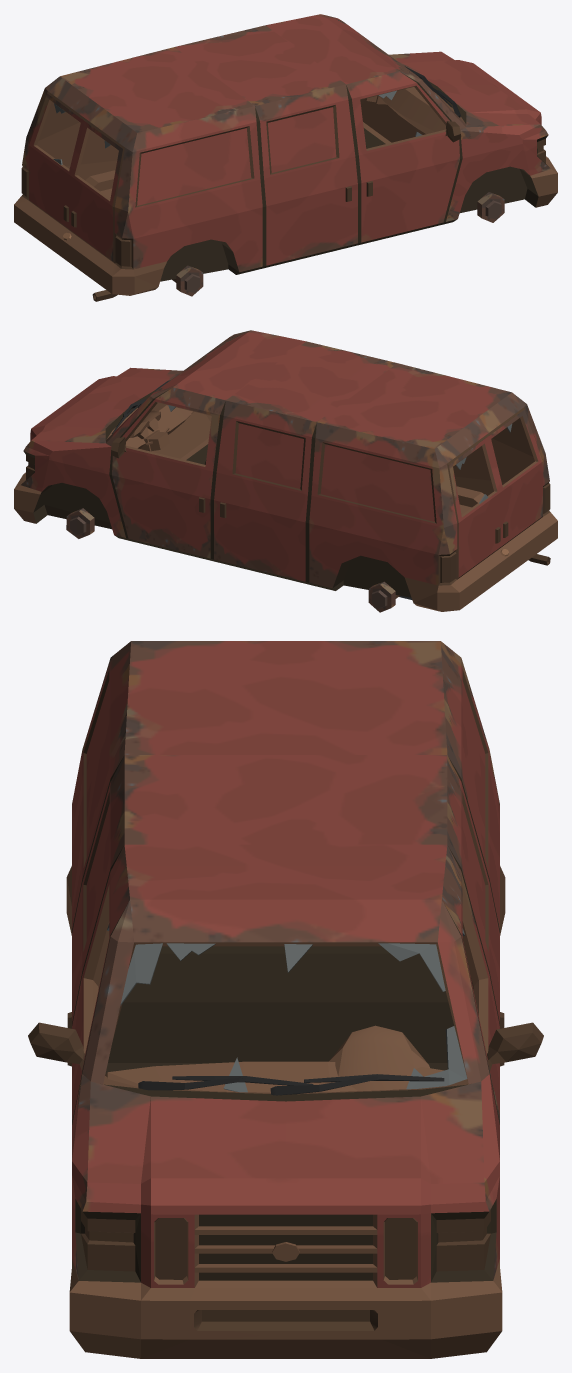
Rendered from VanWrecked_1.fbx.
3 renders of one model, top to bottom at view 1: azimuth 30°, elevation 25°; view 2: azimuth 150°, elevation 25°; view 3: azimuth 270°, elevation 25°, orthographic. The views are drawn at different scales.
Parts seen in each view (by area): view 1: SM_Prop_Car_Wrecked_Van_01; view 2: SM_Prop_Car_Wrecked_Van_01; view 3: SM_Prop_Car_Wrecked_Van_01.
Part boxes in pixels (x1,y1,x2,y2): SM_Prop_Car_Wrecked_Van_01: (14, 14, 557, 301); SM_Prop_Car_Wrecked_Van_01: (14, 330, 557, 612); SM_Prop_Car_Wrecked_Van_01: (28, 641, 543, 1358).
Bounding box in the file's own units: 663 × 233 × 327.
Materials: 1 (1 with a texture image).
